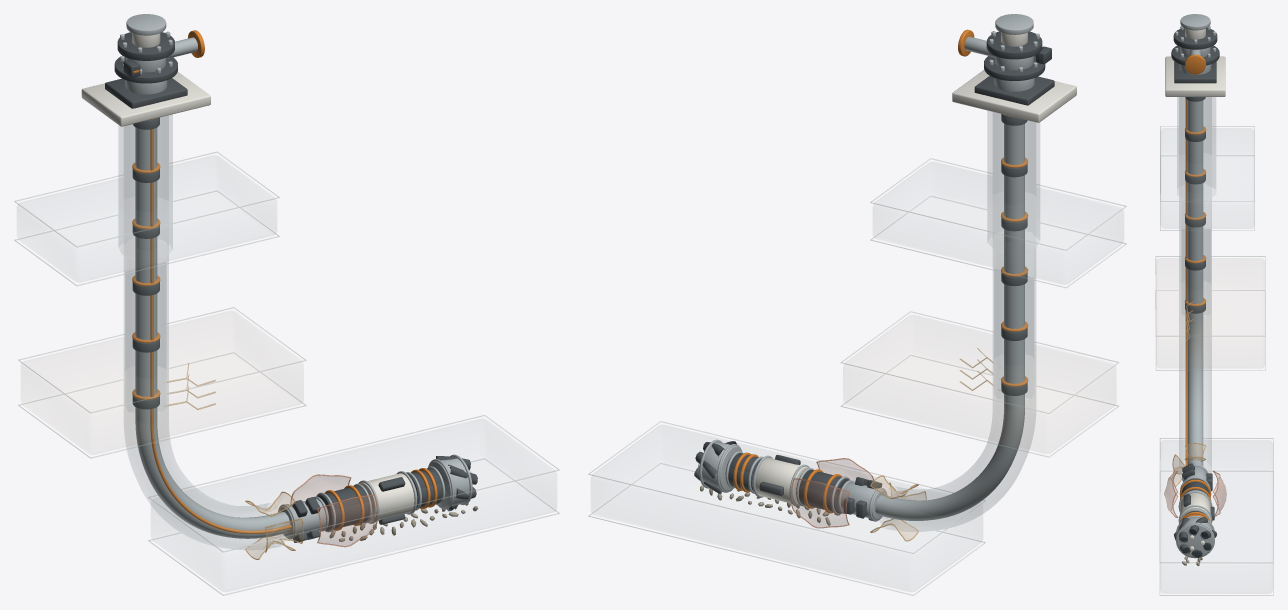
File: well-digital-twin.glb
3 renders of one model, left to right at view 1: azimuth 30°, elevation 25°; view 2: azimuth 150°, elevation 25°; view 3: azimuth 270°, elevation 25°, orthographic. The views are drawn at different scales.
Visible parts, largest first — view 1: Smoked open hole, Continuous drillstring, Surface casing, Wellhead foundation, Intermediate casing, Breakout wall cavity.001, Orange telemetry conduit, Steering housing, MWD housing, Wellhead foot, Reservoir formation section contour.001, Bit housing (+8 smaller); view 2: Continuous drillstring, Smoked open hole, Surface casing, Wellhead foundation, Breakout wall cavity, Intermediate casing, Steering housing, MWD housing, Wellhead foot, Reservoir formation section contour.001, Surface flange.003, Bit housing (+4 smaller); view 3: Continuous drillstring, Smoked open hole, Surface casing, Wellhead foundation, Orange telemetry conduit, Intermediate casing, Bit housing, Wellhead foot, Surface flange.003, Surface flange.005, Steering housing, Surface flange.001 (+14 smaller).
Part boxes in pixels (x1=…): Smoked open hole: x1=124, y1=116, x2=279, y2=549; Continuous drillstring: x1=135, y1=127, x2=290, y2=538; Surface casing: x1=118, y1=114, x2=172, y2=249; Wellhead foundation: x1=81, y1=72, x2=210, y2=126; Intermediate casing: x1=125, y1=262, x2=165, y2=405; Breakout wall cavity.001: x1=318, y1=495, x2=376, y2=545; Orange telemetry conduit: x1=150, y1=129, x2=291, y2=533; Steering housing: x1=359, y1=473, x2=417, y2=522; MWD housing: x1=317, y1=485, x2=372, y2=530; Wellhead foot: x1=105, y1=78, x2=187, y2=108; Reservoir formation section contour.001: x1=148, y1=415, x2=559, y2=552; Bit housing: x1=428, y1=456, x2=472, y2=508; Continuous drillstring: x1=875, y1=123, x2=1024, y2=520; Smoked open hole: x1=886, y1=112, x2=1035, y2=531; Surface casing: x1=987, y1=111, x2=1039, y2=240; Wellhead foundation: x1=952, y1=70, x2=1076, y2=122; Breakout wall cavity: x1=791, y1=479, x2=848, y2=527; Intermediate casing: x1=994, y1=268, x2=1033, y2=393; Steering housing: x1=752, y1=457, x2=808, y2=505; MWD housing: x1=796, y1=469, x2=849, y2=513; Wellhead foot: x1=974, y1=76, x2=1054, y2=105; Reservoir formation section contour.001: x1=588, y1=421, x2=985, y2=553; Surface flange.003: x1=986, y1=31, x2=1042, y2=59; Bit housing: x1=699, y1=441, x2=741, y2=491; Continuous drillstring: x1=1187, y1=100, x2=1203, y2=466; Smoked open hole: x1=1179, y1=97, x2=1211, y2=467; Surface casing: x1=1177, y1=97, x2=1215, y2=189; Wellhead foundation: x1=1165, y1=56, x2=1225, y2=96; Orange telemetry conduit: x1=1185, y1=99, x2=1187, y2=465; Intermediate casing: x1=1182, y1=229, x2=1210, y2=308; Bit housing: x1=1177, y1=517, x2=1213, y2=557; Wellhead foot: x1=1174, y1=61, x2=1216, y2=83; Surface flange.003: x1=1173, y1=28, x2=1217, y2=49; Surface flange.005: x1=1180, y1=14, x2=1210, y2=30; Steering housing: x1=1180, y1=493, x2=1210, y2=522; Surface flange.001: x1=1171, y1=45, x2=1219, y2=65.
Size of the model in its own units: 5.61 by 6.32 by 1.57.
